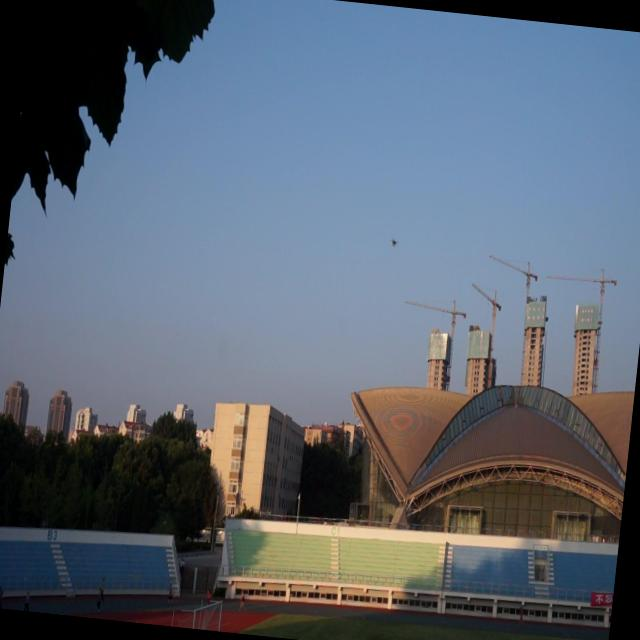drone: (387, 232, 400, 252)
